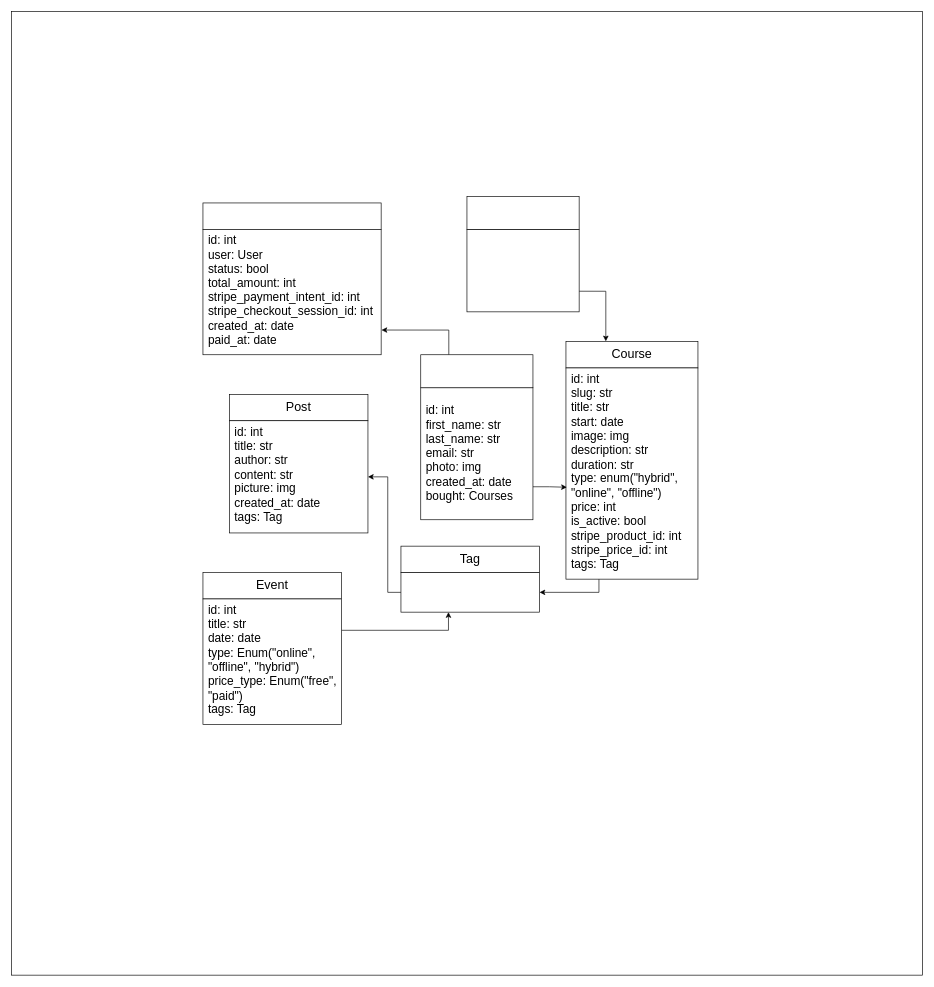
Image size: 934x987. Some labels were removed from this diagram. Here are the shapes that lost their labels. From the top down, the centre of each, then its label:
point 291,215: Order
point 522,212: Consultation
point 522,270: id: int name: str email: str phone: str interested: Course
point 476,371: User ( AbstractUser )
point 470,592: id: int name: str
